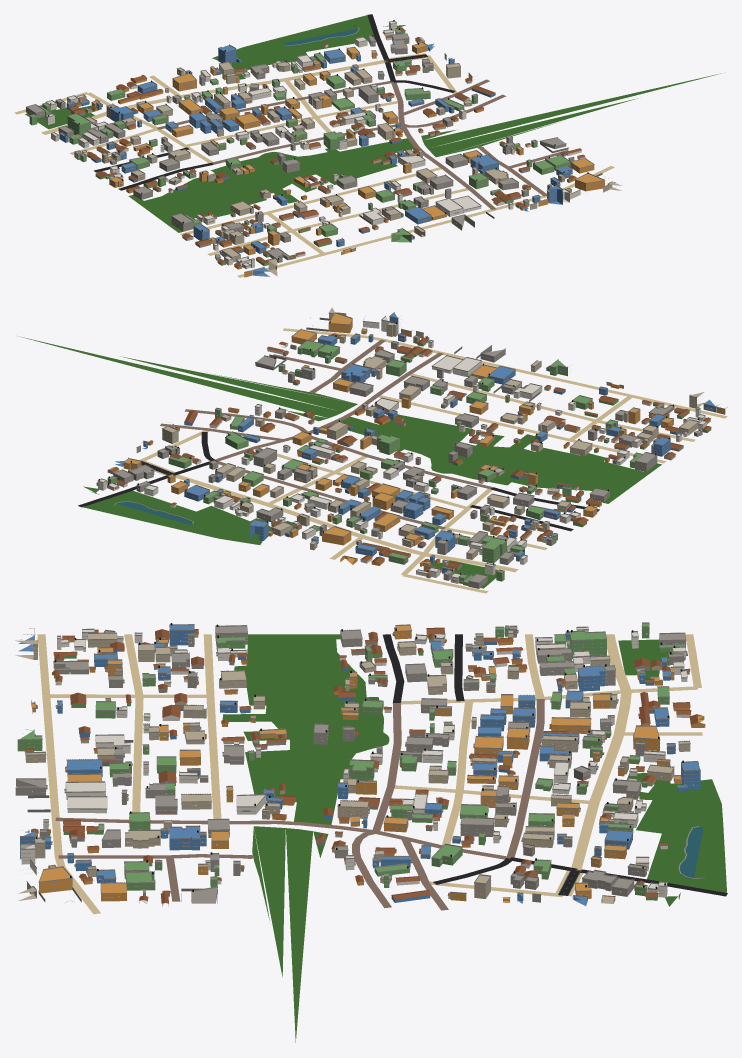
File: zone_t-7_1.glb
3 views of the same model, one above another, from view 1: azimuth 30°, elevation 25°; view 2: azimuth 150°, elevation 25°; view 3: azimuth 270°, elevation 25° (orthographic). The views are drawn at different scales.
Visible parts, largest first — view 1: zone_humide_t-7_1, parapet_t-7_1, bld_beton_t-7_1-col, bld_peinture_ecaillee_t-7_1-col, bld_peinture_vert_t-7_1-col, bld_peinture_ocre_t-7_1-col, bld_peinture_bleu_t-7_1-col, bld_peinture_blanc_t-7_1-col, toit_tole_t-7_1, route_residential_terre_t-7_1, route_residential_paves_t-7_1, bandeau_t-7_1 (+2 smaller); view 2: zone_humide_t-7_1, parapet_t-7_1, bld_beton_t-7_1-col, bld_peinture_vert_t-7_1-col, bld_peinture_ecaillee_t-7_1-col, bld_peinture_ocre_t-7_1-col, bld_peinture_bleu_t-7_1-col, bld_peinture_blanc_t-7_1-col, toit_tole_t-7_1, route_residential_terre_t-7_1, route_residential_paves_t-7_1, bandeau_t-7_1 (+2 smaller); view 3: zone_humide_t-7_1, parapet_t-7_1, bld_beton_t-7_1-col, bld_peinture_ecaillee_t-7_1-col, bld_peinture_vert_t-7_1-col, bld_peinture_ocre_t-7_1-col, route_residential_terre_t-7_1, bld_peinture_bleu_t-7_1-col, toit_tole_t-7_1, bld_peinture_blanc_t-7_1-col, route_residential_paves_t-7_1, bandeau_t-7_1 (+4 smaller).
Part boxes in pixels (left/top/right/bottom): zone_humide_t-7_1: left=25, top=15, right=721, bottom=232; parapet_t-7_1: left=26, top=21, right=612, bottom=272; bld_beton_t-7_1-col: left=26, top=34, right=574, bottom=264; bld_peinture_ecaillee_t-7_1-col: left=68, top=37, right=621, bottom=276; bld_peinture_vert_t-7_1-col: left=29, top=29, right=570, bottom=266; bld_peinture_ocre_t-7_1-col: left=78, top=42, right=604, bottom=277; bld_peinture_bleu_t-7_1-col: left=59, top=43, right=572, bottom=276; bld_peinture_blanc_t-7_1-col: left=45, top=21, right=584, bottom=269; toit_tole_t-7_1: left=68, top=27, right=585, bottom=267; route_residential_terre_t-7_1: left=14, top=55, right=614, bottom=277; route_residential_paves_t-7_1: left=156, top=79, right=568, bottom=209; bandeau_t-7_1: left=26, top=25, right=616, bottom=275; zone_humide_t-7_1: left=17, top=336, right=661, bottom=588; parapet_t-7_1: left=97, top=310, right=727, bottom=583; bld_beton_t-7_1-col: left=113, top=336, right=702, bottom=588; bld_peinture_vert_t-7_1-col: left=96, top=341, right=711, bottom=585; bld_peinture_ecaillee_t-7_1-col: left=107, top=307, right=704, bottom=573; bld_peinture_ocre_t-7_1-col: left=123, top=313, right=725, bottom=570; bld_peinture_bleu_t-7_1-col: left=115, top=313, right=716, bottom=573; bld_peinture_blanc_t-7_1-col: left=98, top=317, right=706, bottom=583; toit_tole_t-7_1: left=97, top=333, right=711, bottom=575; route_residential_terre_t-7_1: left=139, top=328, right=727, bottom=593; route_residential_paves_t-7_1: left=160, top=339, right=492, bottom=529; bandeau_t-7_1: left=98, top=316, right=723, bottom=586; zone_humide_t-7_1: left=222, top=634, right=726, bottom=1042; parapet_t-7_1: left=15, top=622, right=700, bottom=899; bld_beton_t-7_1-col: left=15, top=626, right=689, bottom=903; bld_peinture_ecaillee_t-7_1-col: left=15, top=633, right=690, bottom=903; bld_peinture_vert_t-7_1-col: left=17, top=623, right=684, bottom=900; bld_peinture_ocre_t-7_1-col: left=31, top=625, right=705, bottom=902; route_residential_terre_t-7_1: left=37, top=634, right=702, bottom=914; bld_peinture_bleu_t-7_1-col: left=18, top=625, right=700, bottom=905; toit_tole_t-7_1: left=24, top=627, right=698, bottom=903; bld_peinture_blanc_t-7_1-col: left=20, top=627, right=690, bottom=906; route_residential_paves_t-7_1: left=55, top=699, right=544, bottom=910; bandeau_t-7_1: left=16, top=627, right=700, bottom=898.
Size of the model in its own units: 726 by 19.9 by 531.
